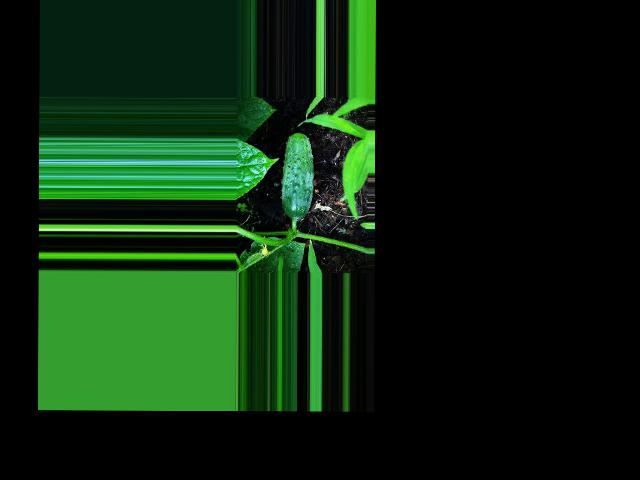cucumber: (281, 131, 314, 220)
